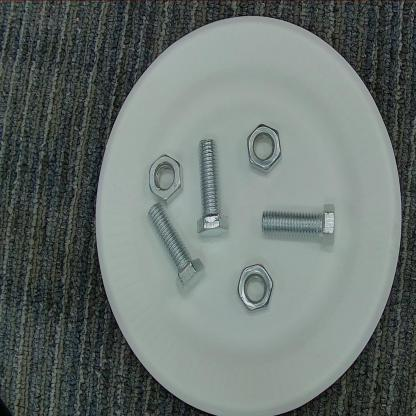FOD: (146, 205, 206, 295), (192, 132, 238, 242), (258, 198, 344, 252), (147, 148, 187, 204), (235, 262, 275, 318), (244, 121, 285, 174)
